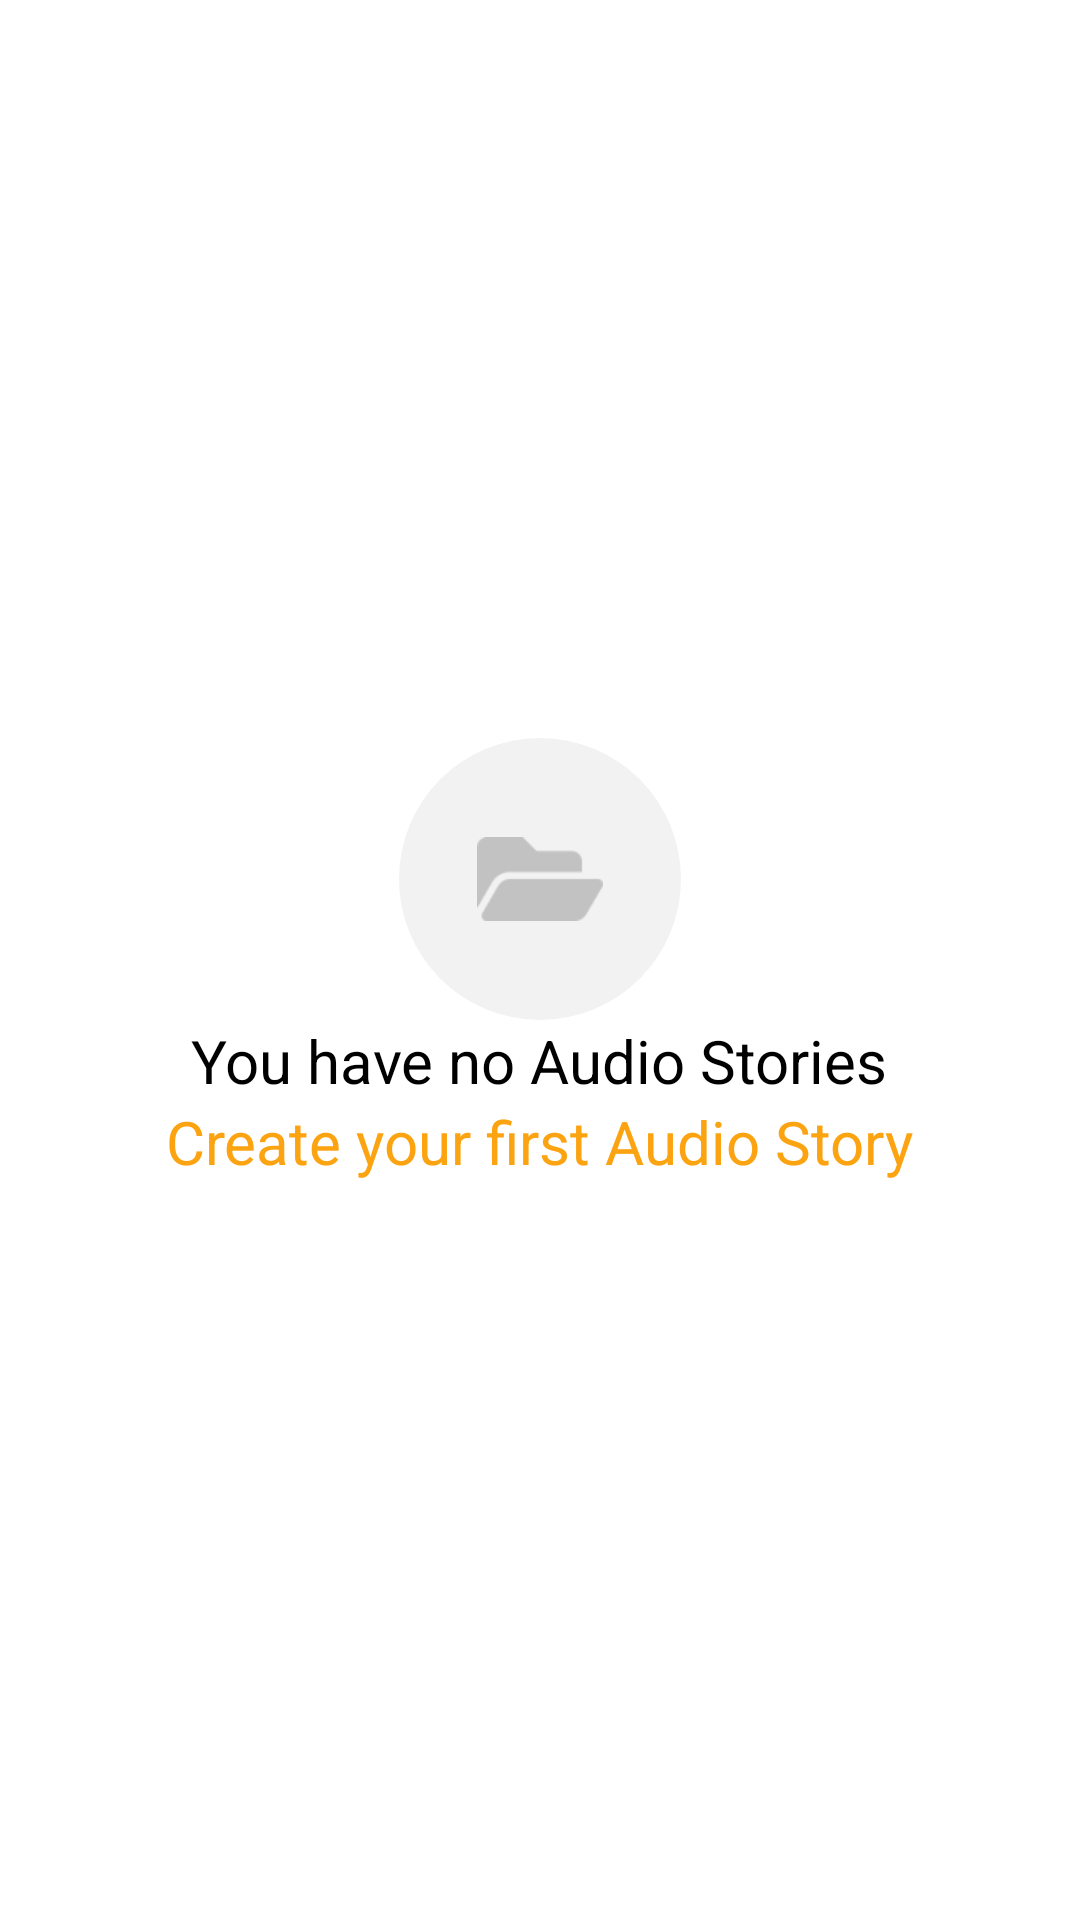

Icon click points for this 1080*1920 phone screenshot, format (x=x, y=y):
empty folder: (x=540, y=879)
